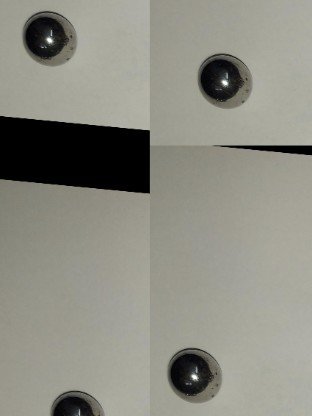ironball: (17, 1, 84, 71), (192, 43, 254, 113), (161, 341, 226, 407), (44, 383, 116, 414)
